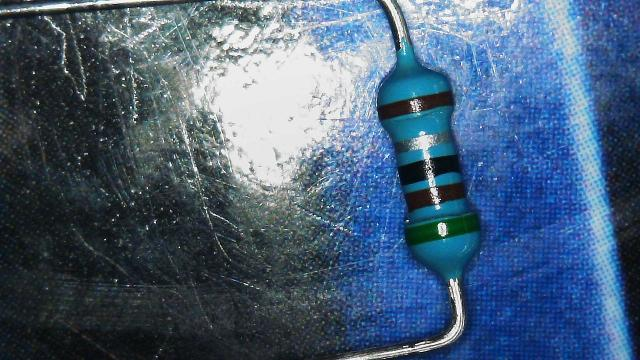black: (398, 154, 460, 184)
brown: (378, 90, 453, 120), (405, 182, 466, 209)
green: (406, 213, 480, 245)
resistor: (355, 50, 492, 277)
silver: (394, 130, 454, 152)
